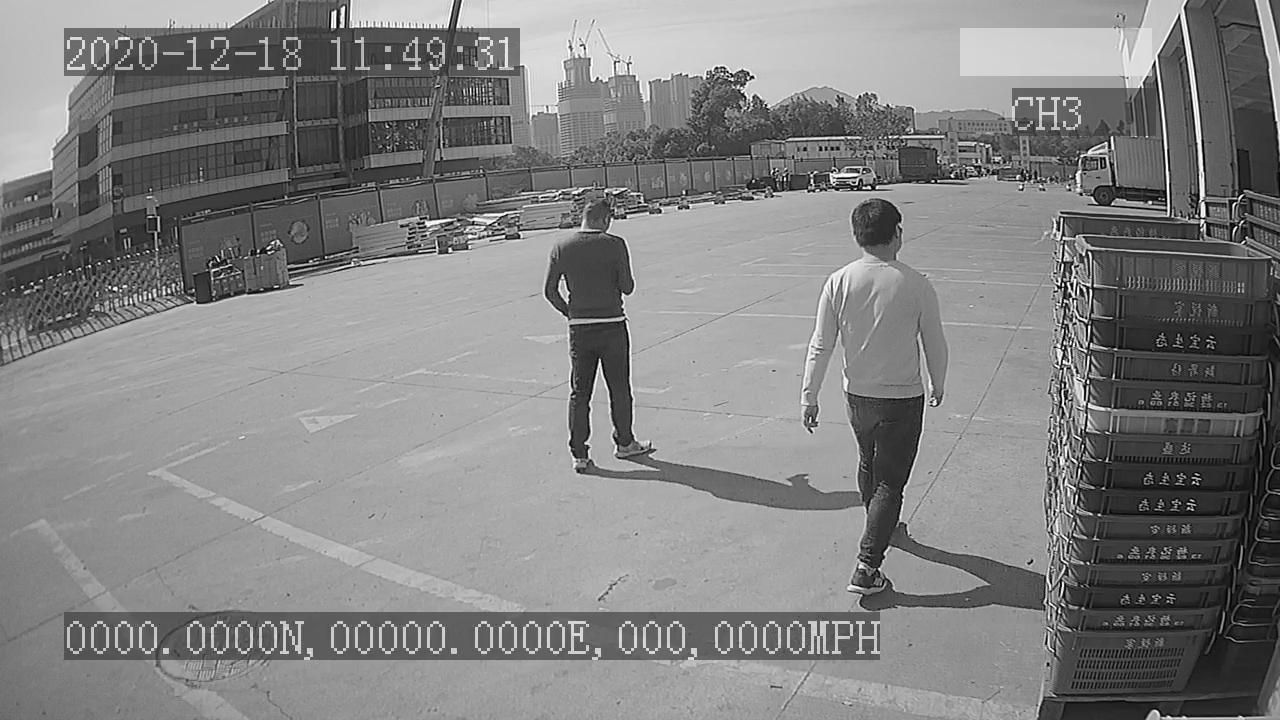person: (797, 194, 952, 604), (536, 195, 661, 483)
